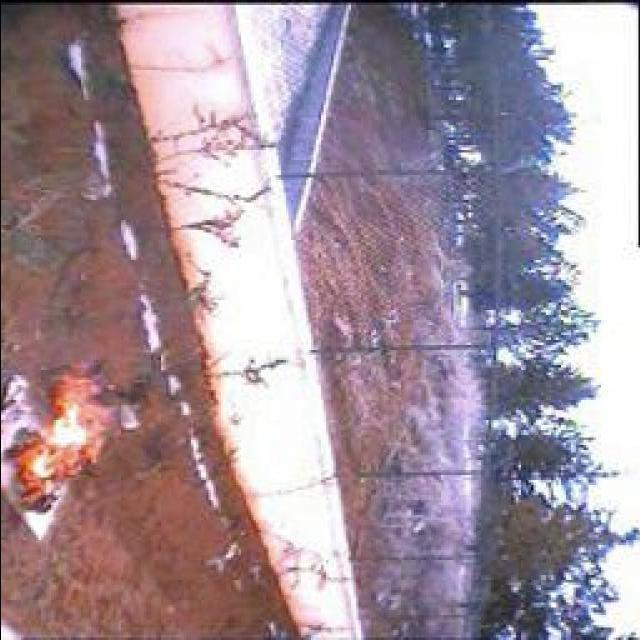Fire: (0, 362, 130, 518)
